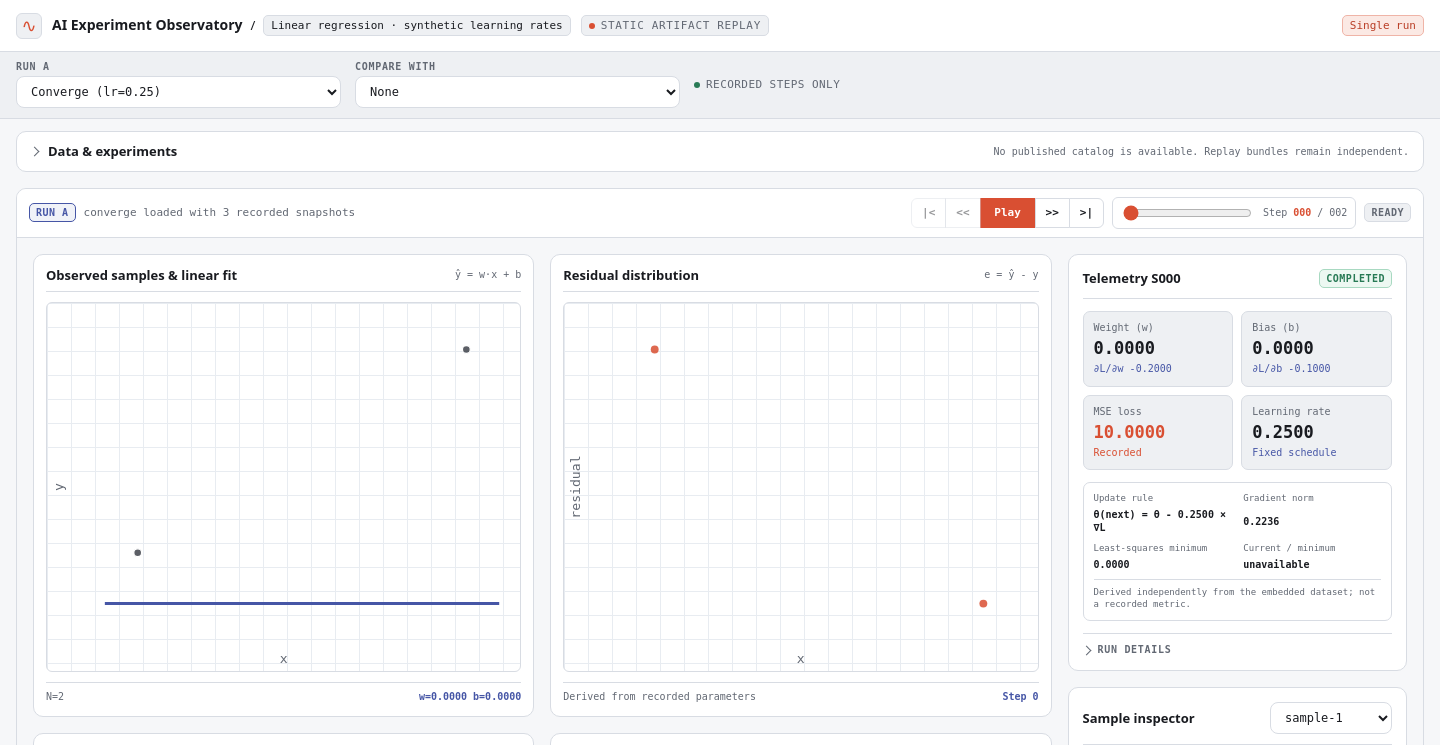
Test: App comparison › activates Run B and announces the comparison contract
The image size is (1440, 745).
Check: the text "converge loaded with 3 recorded snapshots" is shown, box [84,206,355,220]
Select "Slow (lr=0.001)" in the dropdown named "Compare with Run B" at (518, 92), box [355,76,680,108]
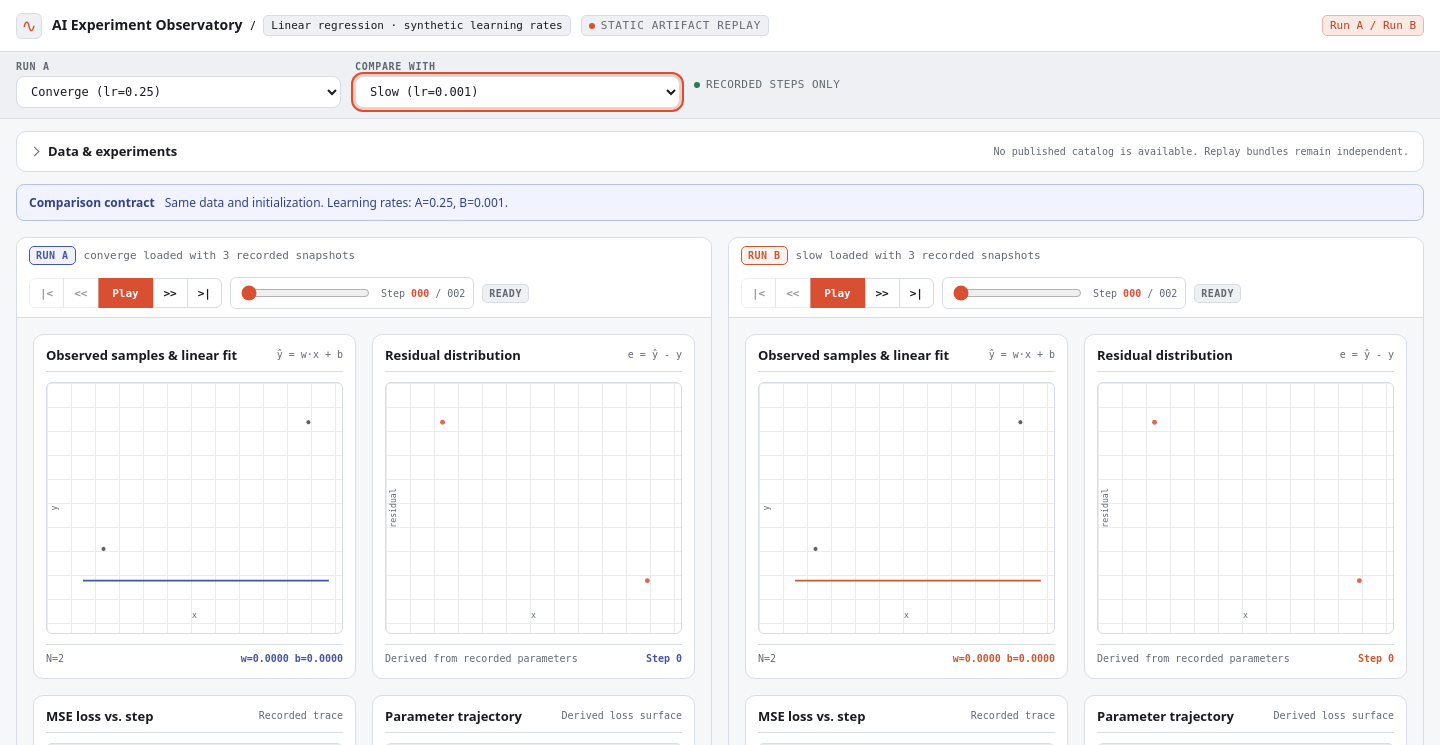
Check: the message that starts with "Comparison contract" shows "Learning rates: A=0.25, B=0.001", box [165,194,508,211]
